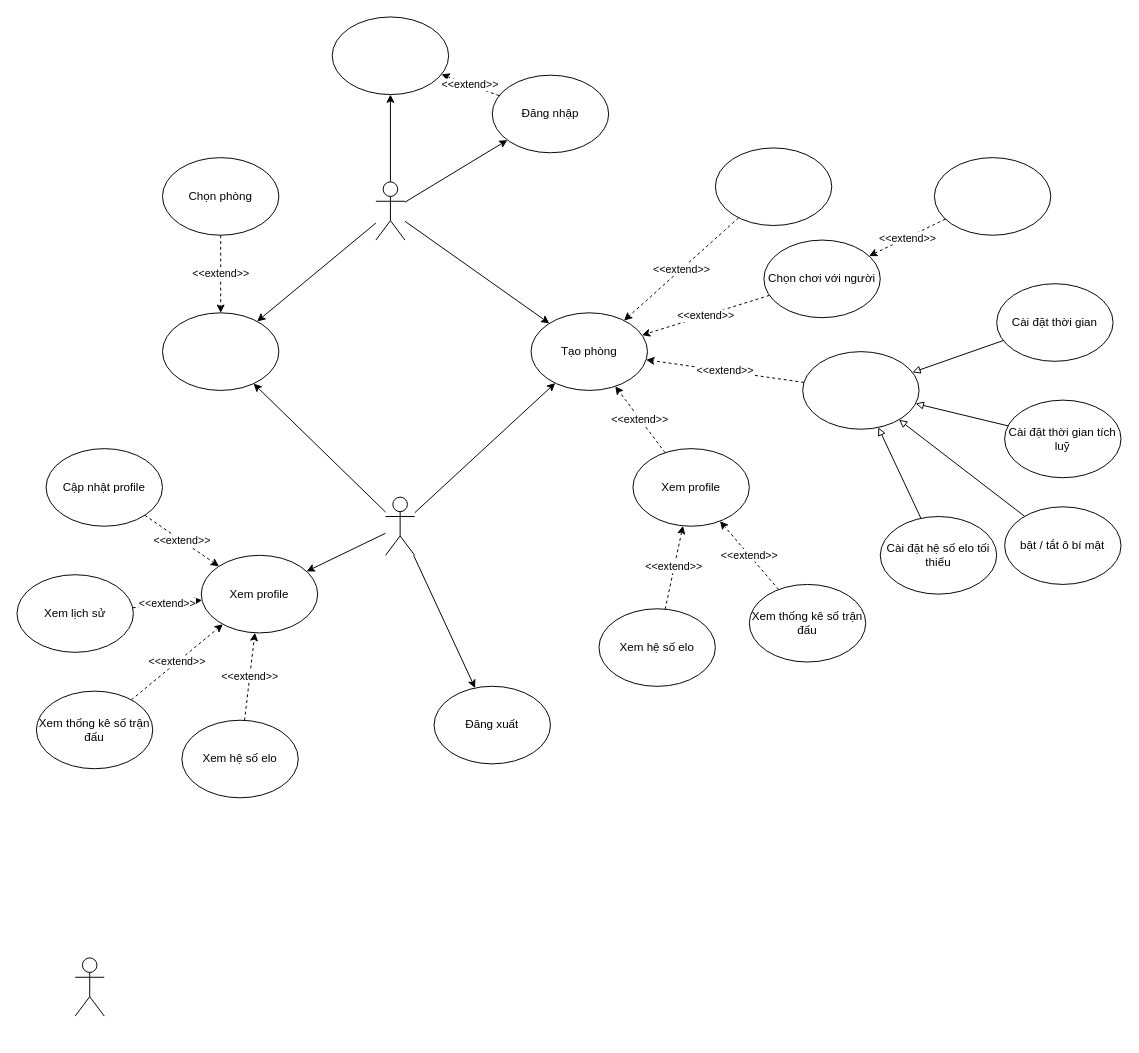
This 1139x1053 diagram has some shape labels left out. The box of each missing label's shape, as (x1, y1, x2, y2) in pixels:
Admin: (74, 957, 104, 1016)
Chọn chơi với máy: (714, 147, 832, 226)
Cài đặt thông số ván đấu: (802, 351, 919, 429)
Guest: (375, 181, 405, 240)
User: (385, 496, 415, 555)
Xem danh sách phòng: (162, 312, 279, 390)
Đuổi người chơi: (933, 157, 1051, 235)
Đăng ký: (331, 16, 449, 95)
